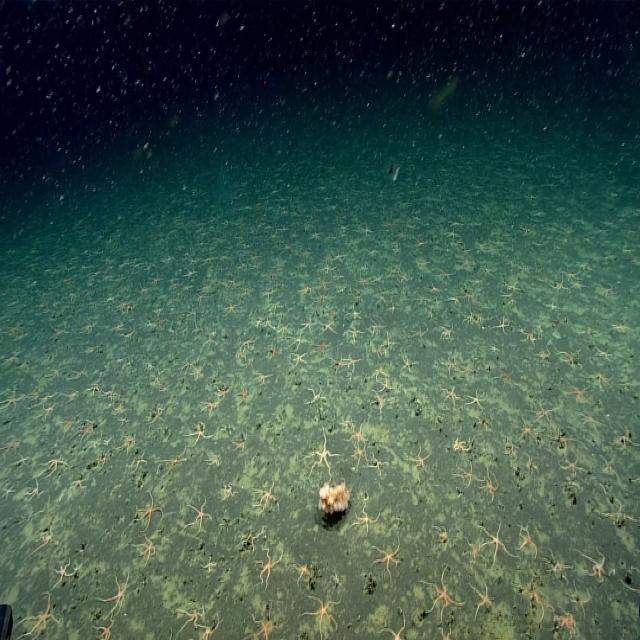brittle-stars: (23, 595, 59, 638), (425, 574, 459, 618), (304, 595, 340, 633), (309, 432, 337, 479), (373, 536, 403, 575), (102, 574, 131, 612), (480, 523, 508, 560), (255, 549, 283, 586), (247, 610, 278, 640), (581, 548, 608, 582), (136, 494, 162, 527), (187, 497, 210, 533), (254, 479, 278, 513), (161, 448, 189, 476), (178, 602, 204, 632), (352, 506, 376, 536), (554, 608, 577, 639), (470, 582, 492, 614), (54, 556, 77, 585), (136, 533, 156, 564), (547, 552, 569, 580), (532, 402, 556, 427), (613, 426, 636, 452), (456, 461, 478, 488), (189, 422, 213, 446), (198, 616, 222, 640), (304, 384, 328, 408), (382, 618, 408, 640), (481, 472, 500, 502), (519, 526, 538, 556), (0, 389, 24, 412), (410, 446, 431, 472), (464, 539, 484, 566), (560, 454, 584, 476), (45, 454, 69, 476), (558, 348, 582, 370), (291, 559, 312, 584), (478, 468, 496, 497), (582, 408, 602, 434), (36, 525, 56, 550), (566, 382, 588, 404), (94, 618, 116, 640), (591, 370, 613, 392), (371, 391, 393, 412), (519, 417, 536, 442), (466, 389, 485, 411), (496, 367, 515, 389), (78, 420, 97, 442), (26, 478, 42, 503), (444, 385, 461, 408), (350, 421, 367, 444), (196, 400, 216, 419), (147, 404, 164, 426), (602, 455, 618, 478), (200, 397, 220, 415), (346, 323, 364, 342), (454, 438, 472, 457), (240, 333, 258, 352), (0, 483, 17, 503), (233, 381, 249, 402), (400, 352, 416, 373), (352, 443, 368, 464), (221, 480, 236, 502), (290, 350, 308, 368), (370, 364, 388, 382), (493, 318, 509, 338), (345, 352, 361, 372), (267, 342, 283, 362), (459, 366, 475, 386), (437, 626, 459, 640), (442, 354, 458, 373), (460, 360, 476, 379), (254, 371, 272, 387), (534, 347, 550, 365), (224, 300, 239, 319), (316, 338, 331, 357), (71, 475, 86, 494), (240, 388, 255, 407), (334, 353, 348, 373), (440, 324, 454, 344), (320, 319, 336, 336), (215, 383, 230, 400), (190, 362, 204, 380), (464, 287, 478, 305), (302, 317, 316, 334), (104, 387, 117, 402), (114, 402, 126, 417), (116, 414, 128, 428)
